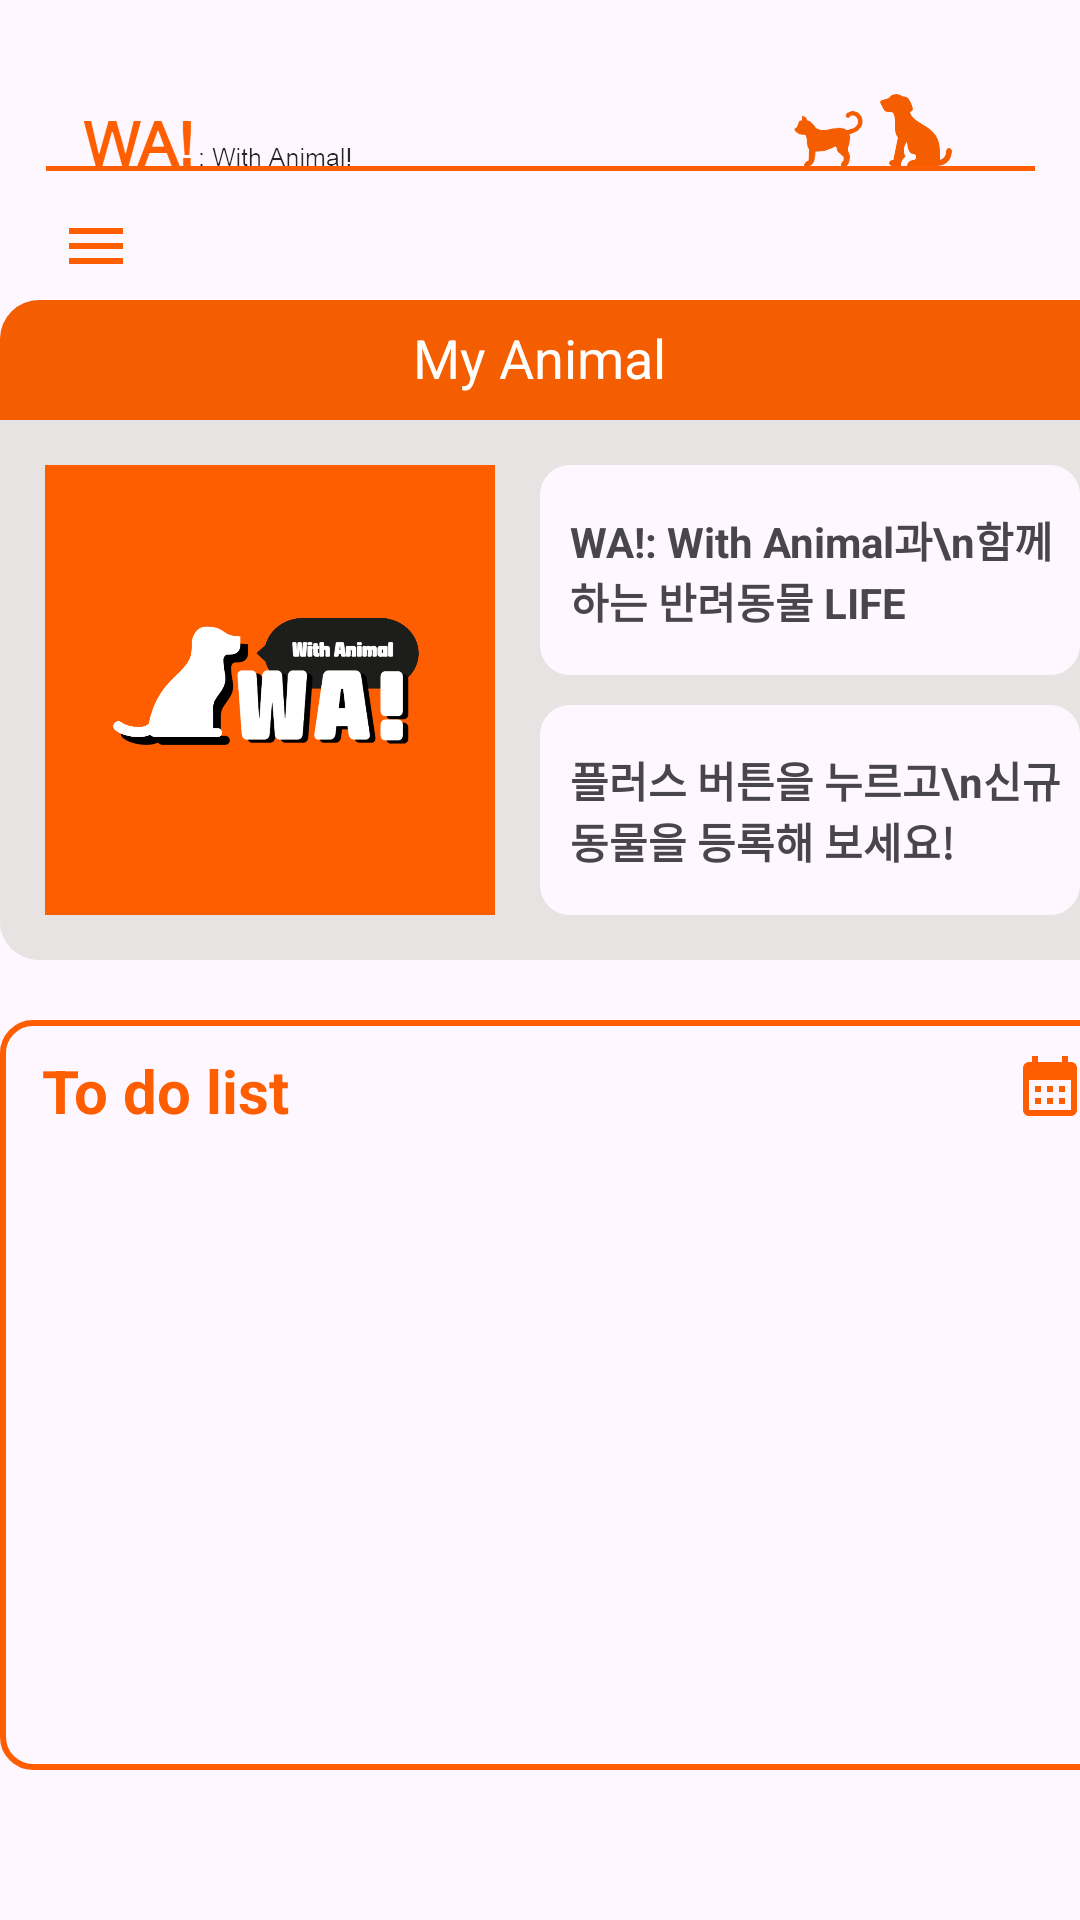

Icons on this 1080px×1920px Android screen, each with the point to tap as point (x, y):
calendar month: point (1050, 1086)
